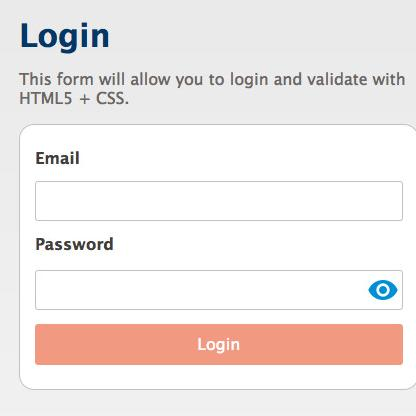button: (32, 321, 405, 369)
field: (33, 179, 406, 223), (32, 268, 405, 312)
field_with_label: (30, 236, 408, 315), (30, 150, 409, 224)
